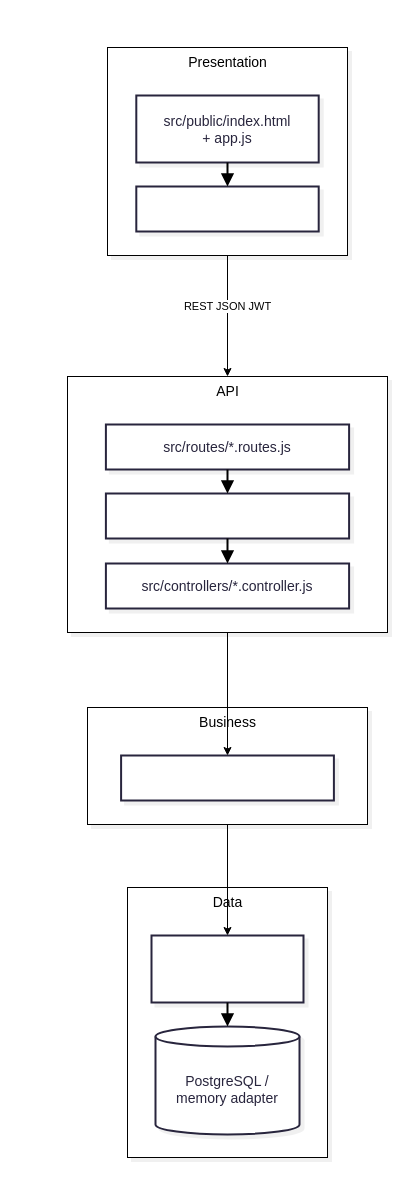
This 409x1179 diagram has some shape labels left out. The centre of each missing label's shape, as x and y in pixels:
src/middleware/auth.js: the point at 229,517
src/public/api/client.js: the point at 229,210
src/repositories/*-ticket.repository.js: the point at 229,970
src/services/ticket.service.js: the point at 229,779
